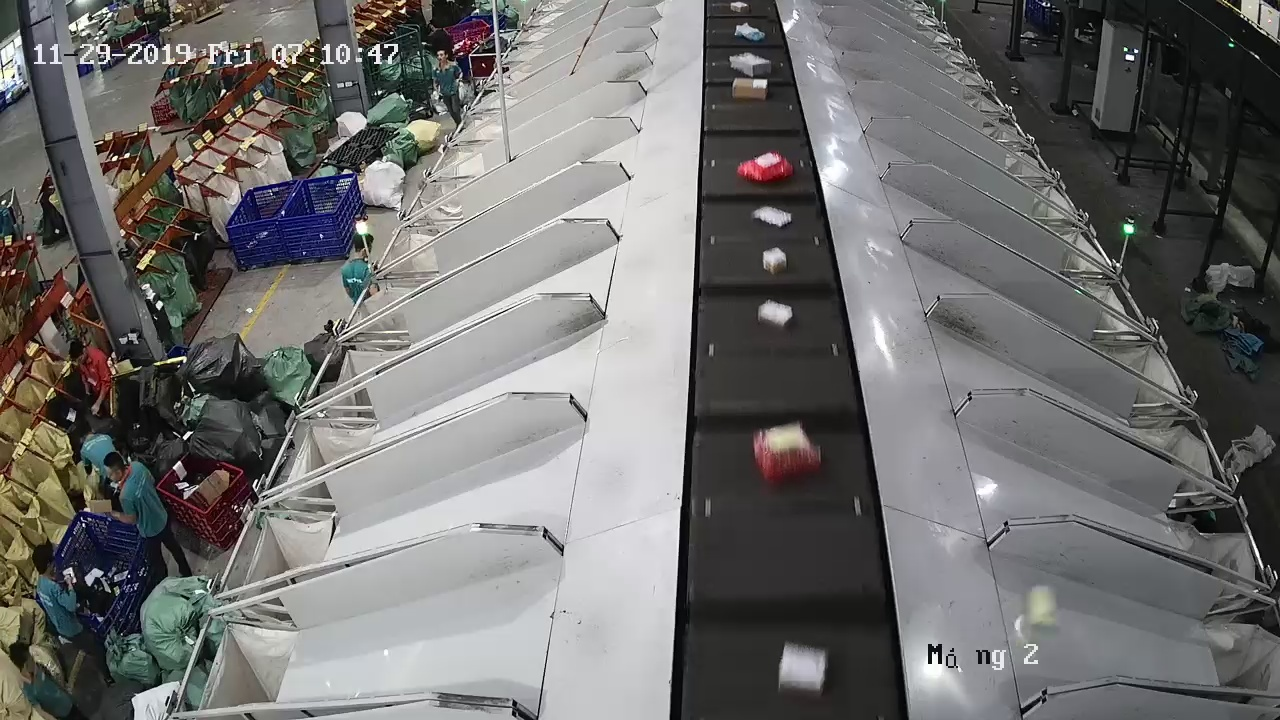parcel: (754, 421, 822, 488), (777, 640, 827, 697), (737, 150, 793, 186), (1026, 584, 1060, 629), (757, 299, 793, 329), (753, 205, 792, 228), (762, 247, 787, 275)
